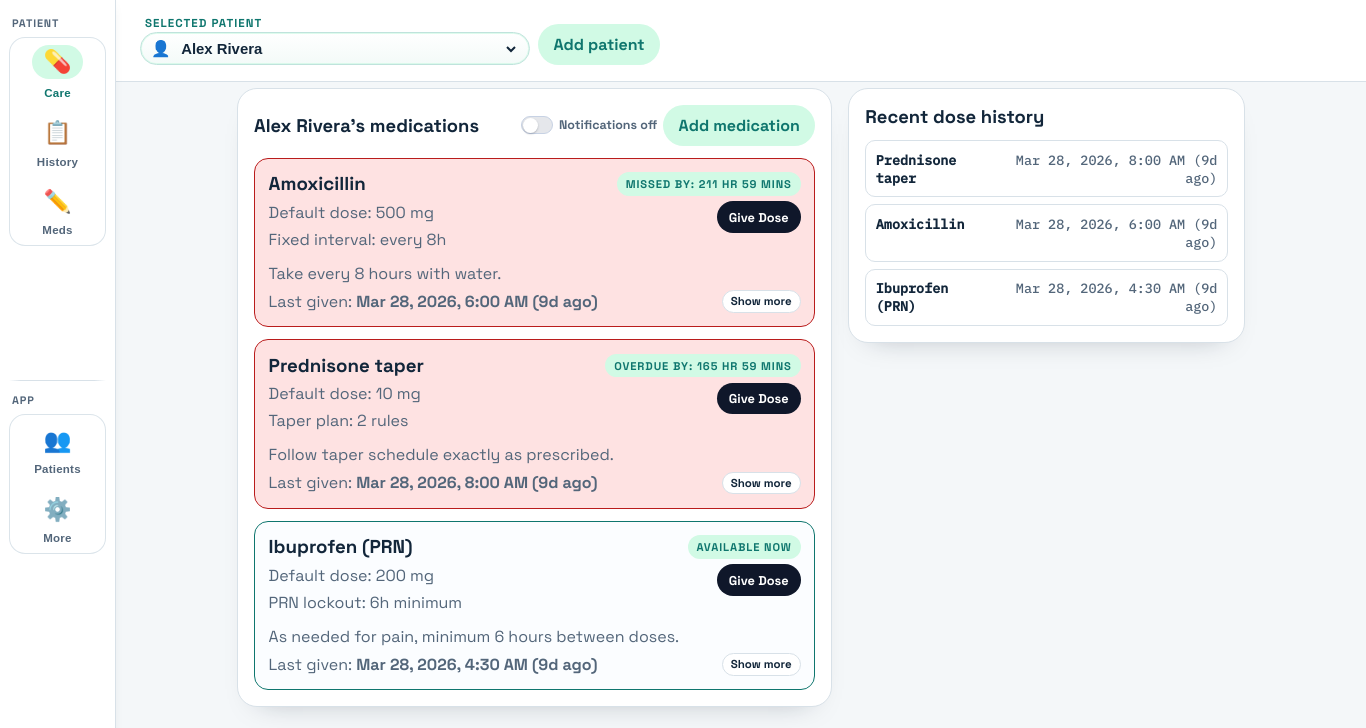
Scenario: App persistence flow › creates a correction event, supersedes original dose, and updates medication status
expect the heading "Alex Rivera's medications" is shown: met, box [254,114,479,137]
expect the text "Missed by: 211 hr 59 mins" is shown: met, box [617,172,801,196]
Click the button with test id "toggle-med-details-med-interval-1": (761, 301) [722,290,801,312]
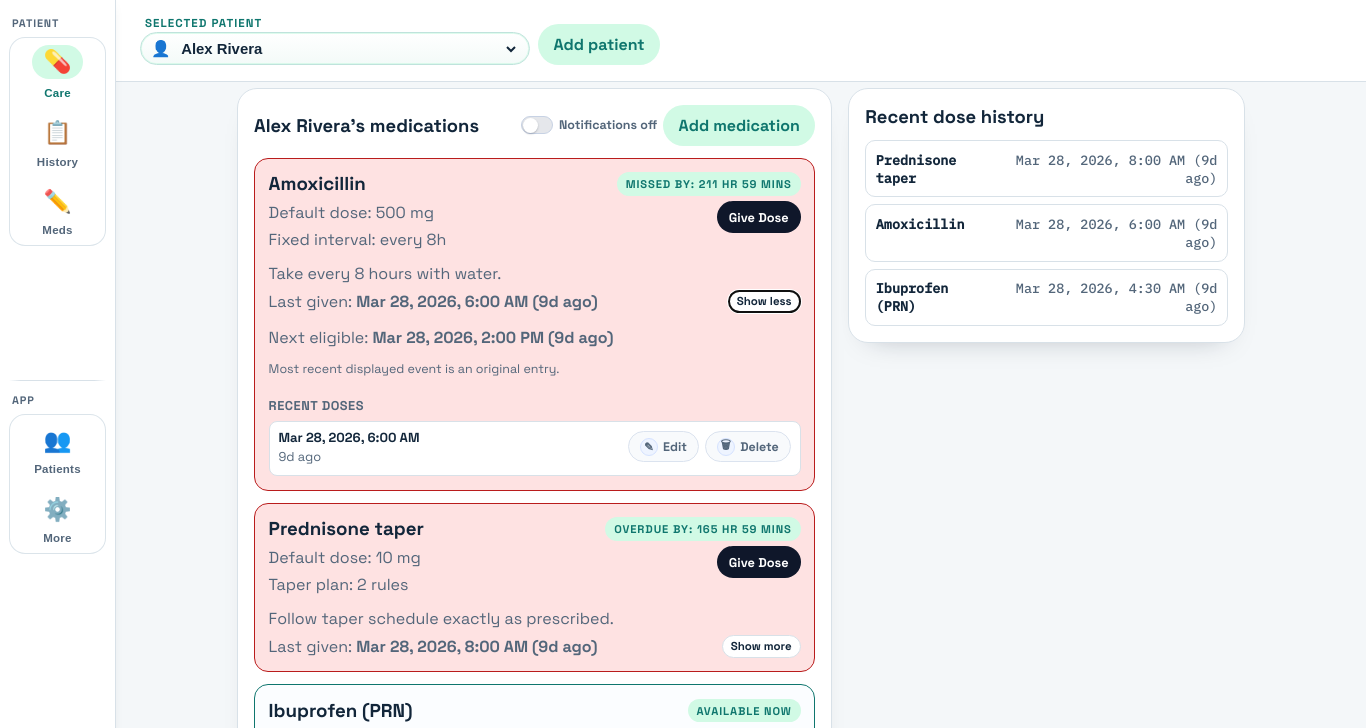
Click the button with test id "correct-dose-dose-seed-1": (663, 447) [628,432,699,462]
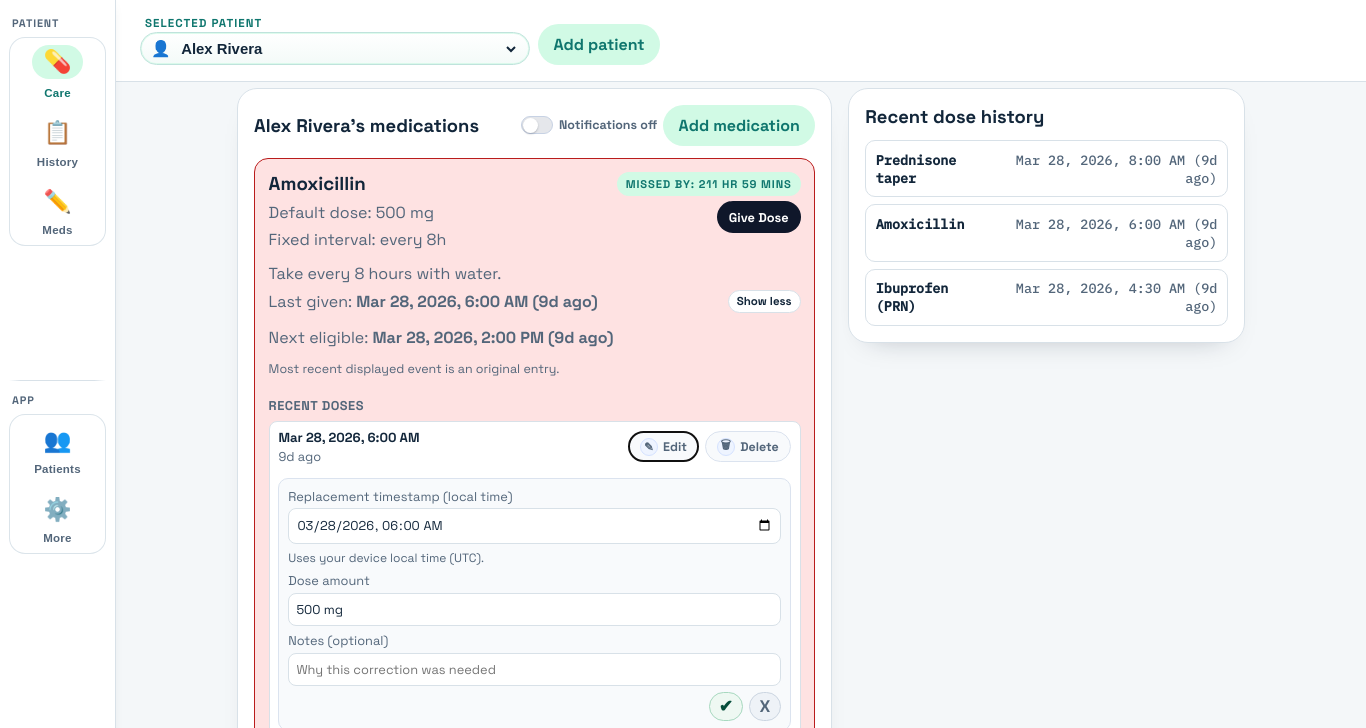
Replace the text in the field labelled "Replacement timestamp (local time)" with "2099-01-01T00:00": (535, 526) [288,508,781,544]
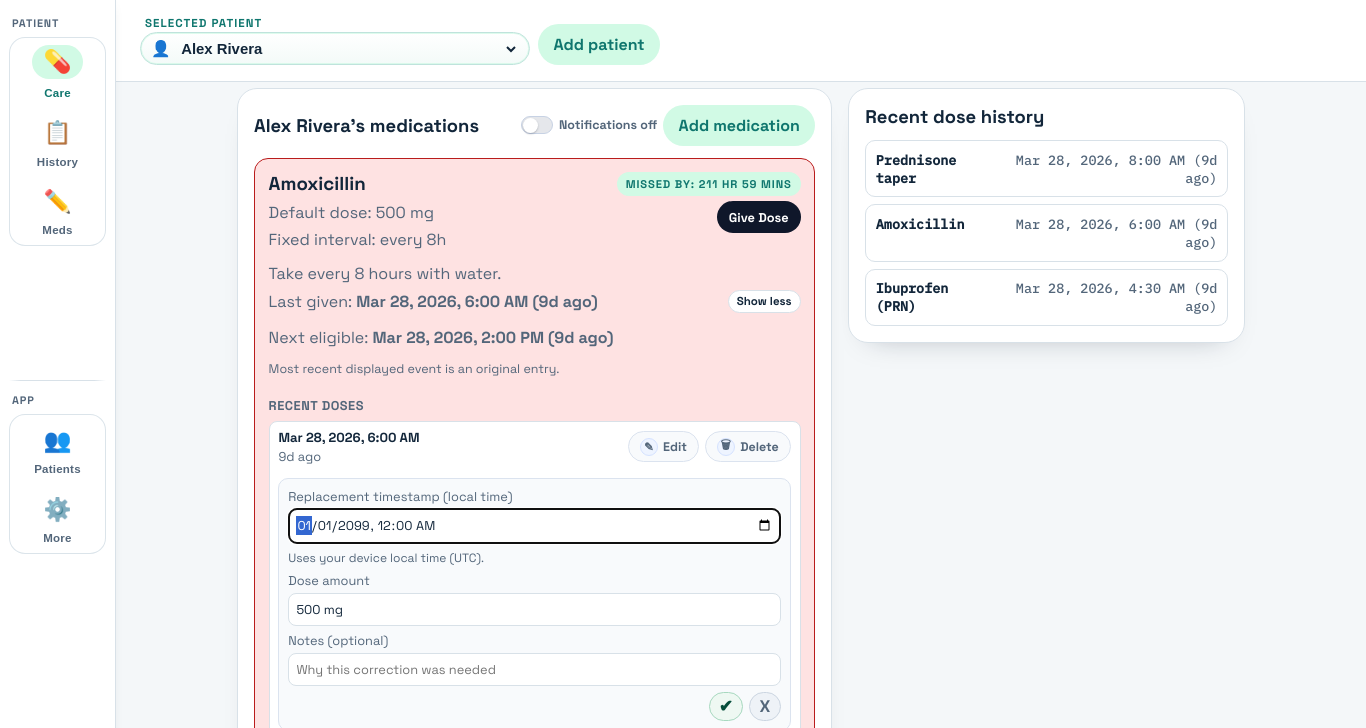
In the field labelled "Notes (optional)": (535, 669) [288,652,781,686], type "Correction test note"
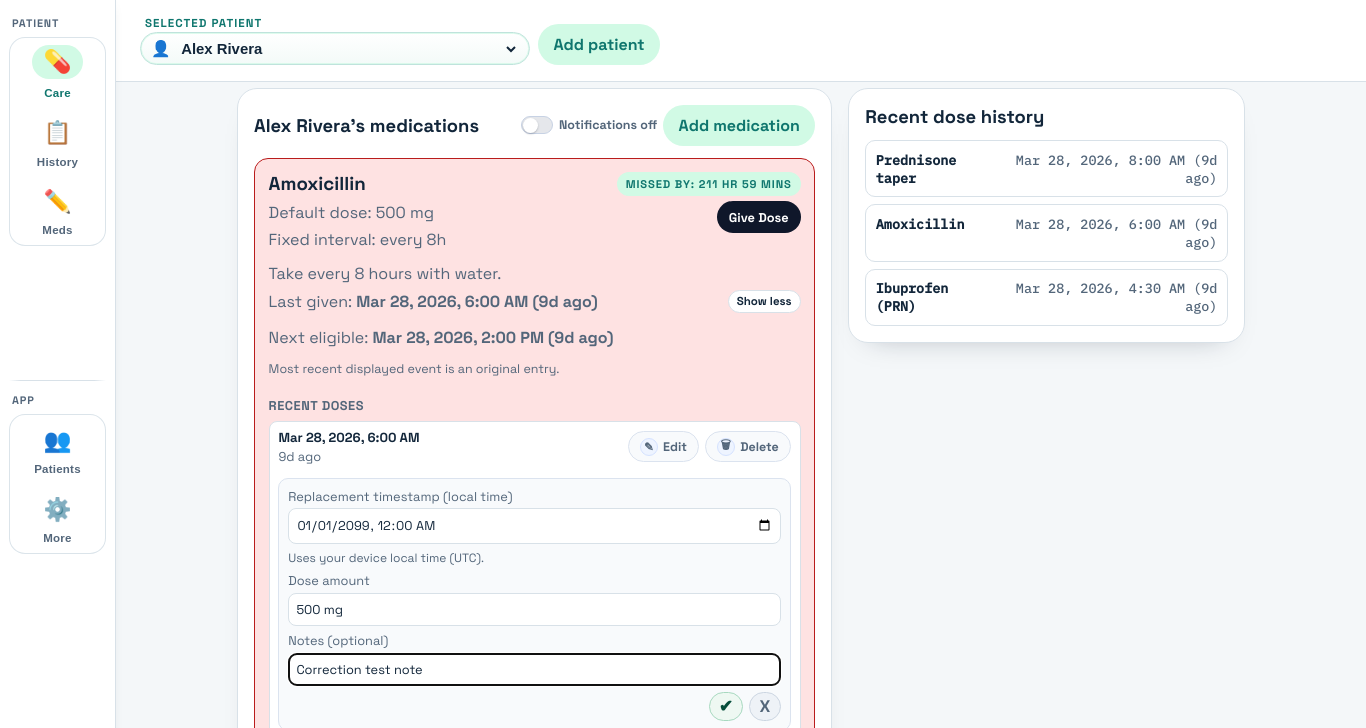
Click the button named "Save correction": (726, 707) [709,692,743,721]
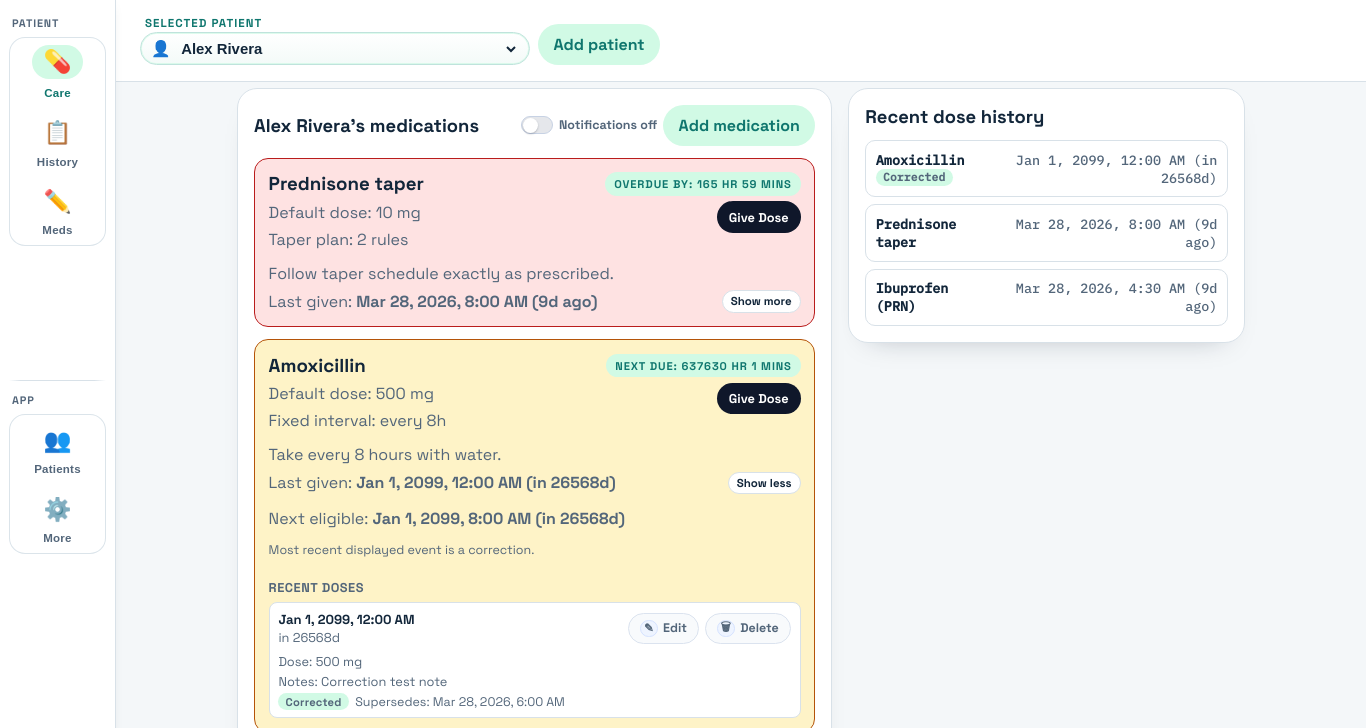
expect the text with test id "entry-tag-corrected-00000000-0000-4000-8000-000000000001" is shown: met, box [278,693,349,710]
expect the text "Next due: 637630 hr 1 mins" is shown: met, box [606,354,801,377]
